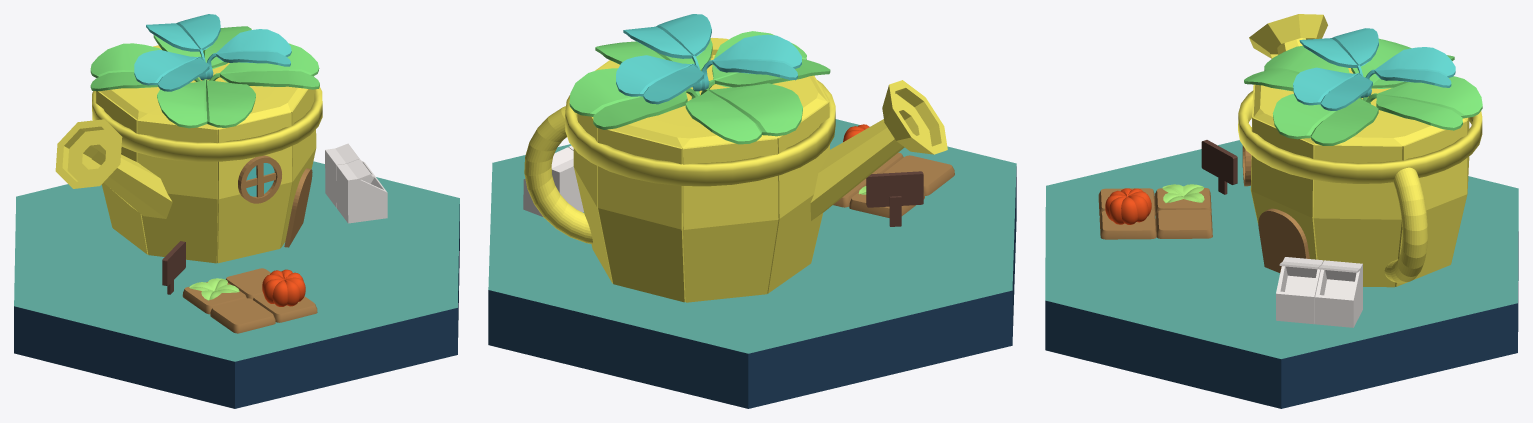
The model's file is Macro - farm barn lv1 wm 1.fbx.
The picture shows the model from 3 angles, left to right: view 1: azimuth 30°, elevation 25°; view 2: azimuth 150°, elevation 25°; view 3: azimuth 270°, elevation 25°; orthographic projection. The views are drawn at different scales.
Parts seen in each view (by area): view 1: Cylinder.154, Cube.020, Cube.047, Cube.019, Plane.008, Cube.046, Cube.045, Plane.005, Cube.014, Plane.015, Plane.010, Plane.009 (+9 smaller); view 2: Cylinder.154, Cube.020, Cube.047, Plane.009, Cube.045, Cube.017, Plane.007, Cube.046, Plane.016, Plane.015, Plane.010, Cube.019 (+5 smaller); view 3: Cylinder.154, Cube.020, Cube.047, Cube.019, Plane.007, Plane.005, Cube.017, Cube.013, Cube.014, Plane.010, Plane.016, Cube.033 (+8 smaller).
Boxes of the visible parts, left/top/right/bottom form: Cylinder.154: left=14, top=161, right=459, bottom=408; Cube.020: left=95, top=45, right=316, bottom=263; Cube.047: left=92, top=87, right=322, bottom=161; Cube.019: left=182, top=268, right=317, bottom=333; Plane.008: left=157, top=79, right=255, bottom=128; Cube.046: left=55, top=119, right=122, bottom=188; Cube.045: left=91, top=148, right=172, bottom=218; Plane.005: left=209, top=43, right=319, bottom=89; Cube.014: left=336, top=159, right=387, bottom=223; Plane.015: left=134, top=49, right=209, bottom=91; Plane.010: left=207, top=29, right=291, bottom=79; Plane.009: left=90, top=43, right=200, bottom=91; Cylinder.154: left=488, top=119, right=1016, bottom=408; Cube.020: left=573, top=37, right=829, bottom=302; Cube.047: left=565, top=55, right=835, bottom=186; Plane.009: left=685, top=83, right=802, bottom=144; Cube.045: left=810, top=119, right=904, bottom=220; Cube.017: left=524, top=106, right=592, bottom=243; Plane.007: left=569, top=68, right=697, bottom=129; Cube.046: left=882, top=80, right=947, bottom=154; Plane.016: left=616, top=55, right=703, bottom=104; Plane.015: left=701, top=34, right=801, bottom=90; Plane.010: left=623, top=14, right=711, bottom=69; Cube.019: left=833, top=152, right=954, bottom=217; Cylinder.154: left=1045, top=140, right=1518, bottom=408; Cube.020: left=1250, top=84, right=1469, bottom=287; Cube.047: left=1238, top=90, right=1482, bottom=183; Cube.019: left=1098, top=188, right=1212, bottom=239; Plane.007: left=1365, top=76, right=1482, bottom=130; Plane.005: left=1273, top=93, right=1378, bottom=145; Cube.017: left=1384, top=167, right=1427, bottom=283; Cube.013: left=1315, top=260, right=1362, bottom=327; Cube.014: left=1276, top=257, right=1323, bottom=324; Plane.010: left=1293, top=67, right=1372, bottom=110; Plane.016: left=1365, top=47, right=1455, bottom=97; Cube.033: left=1258, top=208, right=1309, bottom=272.
Bounding box in the file's own units: 197 × 95.43 × 172.
